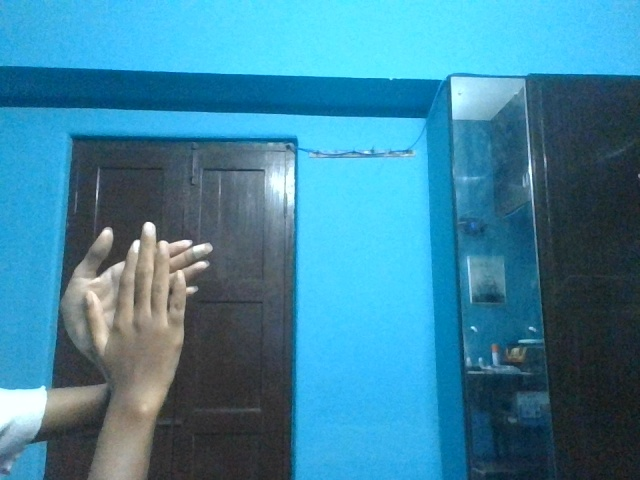H: (52, 214, 220, 389)
